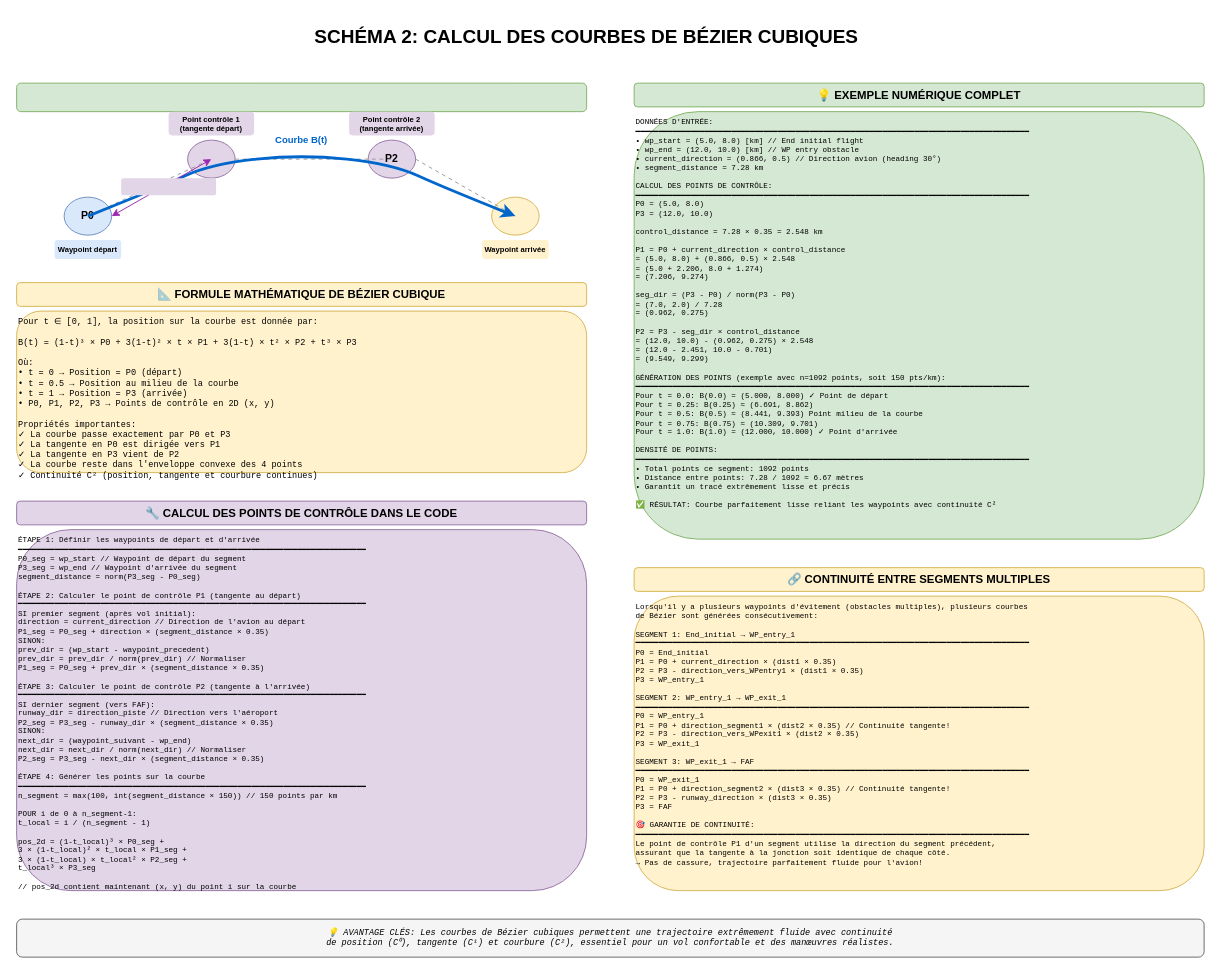
Image size: 1221x974. Some labels were removed from this diagram. Each missing label, with the box of its shape:
35% × segment_dist: (121, 178, 216, 195)
P1: (187, 139, 235, 178)
P3: (491, 196, 539, 235)
PRINCIPE DE LA COURBE DE BÉZIER CUBIQUE: (16, 82, 587, 112)
